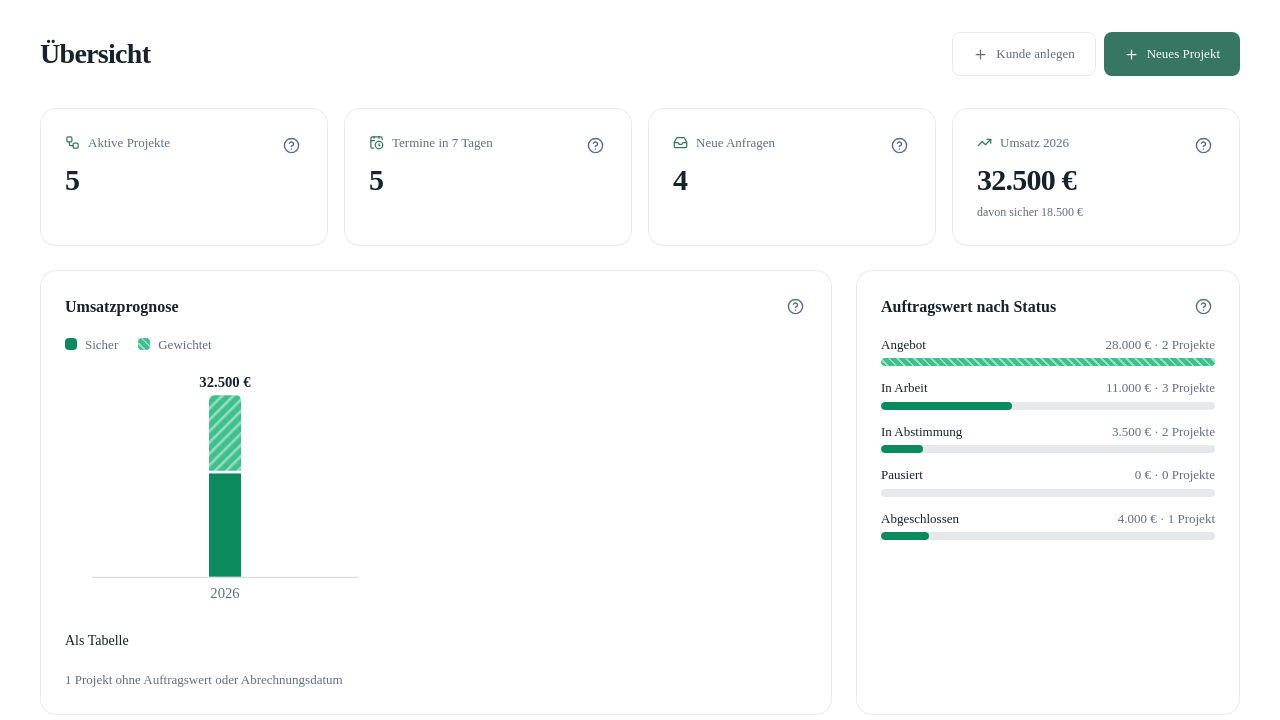
Test case: Dashboard aufs Wichtigste › AK-2/AK-8: „Kunde anlegen“ öffnet einen Dialog, nach Erfolg zu mit Meldung
Click the button "Kunde anlegen": coordinates (1024, 54) [952,32,1096,76]
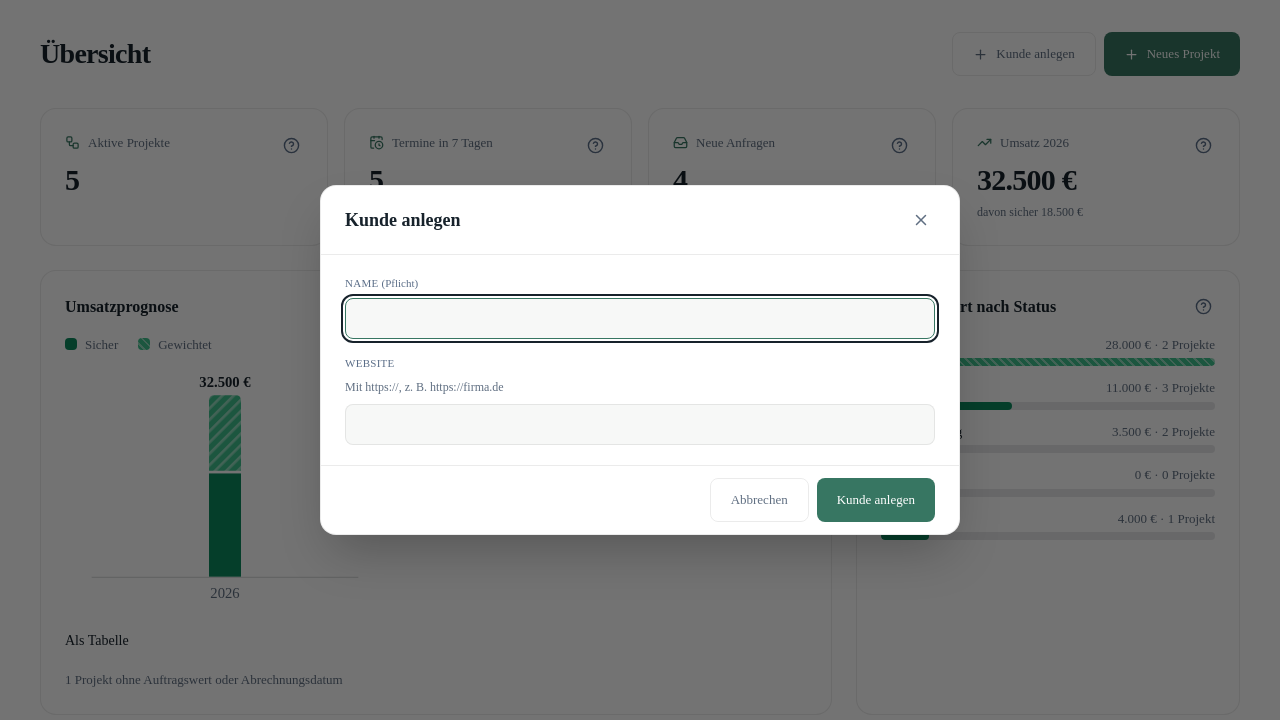
Expected: the button named "Schließen" is shown, [899,198,943,242]
In the field labelled "Name (Pflicht)": coordinates (640, 318) [345,298,935,339], type "Neu GmbH"
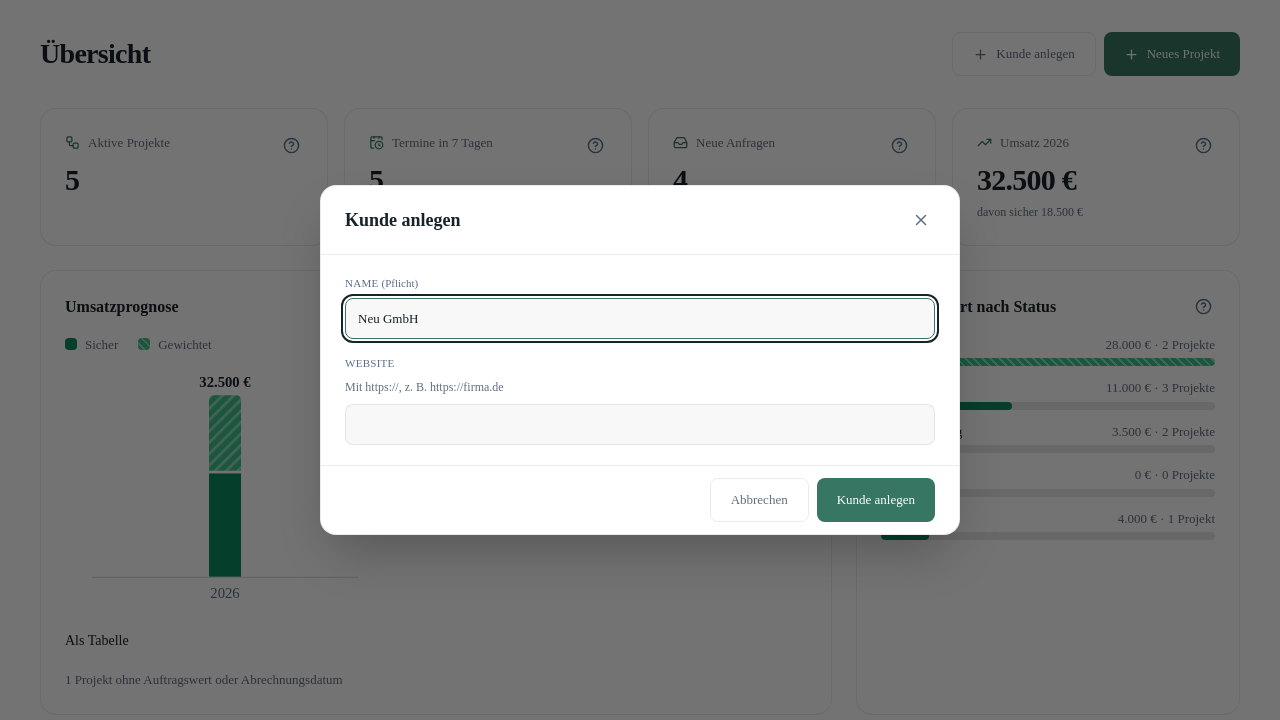
Click the 2nd button "Kunde anlegen": coordinates (876, 500) [817,478,935,522]
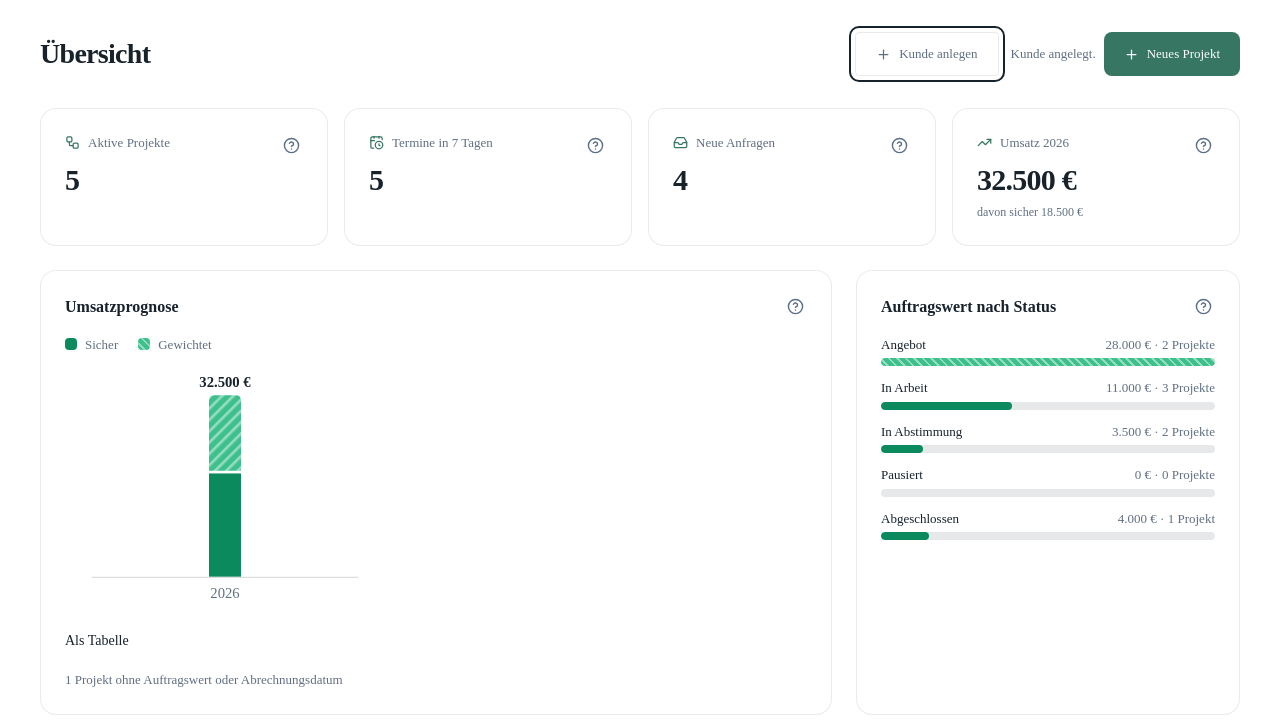
Expected: the dialog is gone
Expected: the text "Kunde angelegt." is shown, [1010,44,1096,64]
